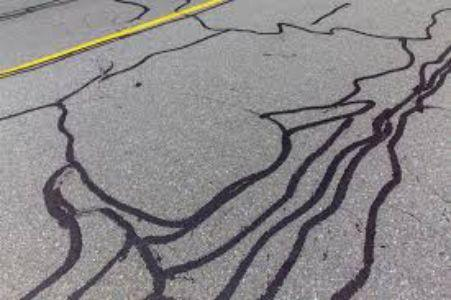crack: (379, 186, 451, 237), (173, 87, 262, 126)
